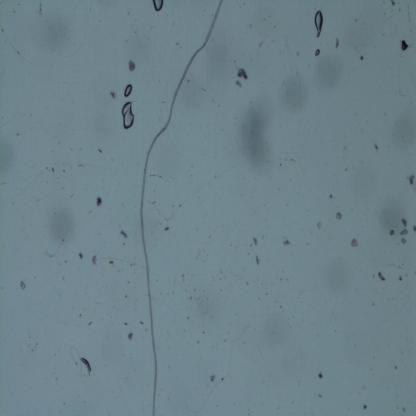Air bubble: (121, 100, 136, 131), (314, 10, 323, 38), (152, 0, 164, 13), (123, 83, 132, 98), (314, 49, 320, 56)
Background material: (234, 96, 280, 173), (38, 201, 84, 246), (374, 193, 409, 234), (387, 110, 416, 152), (32, 14, 64, 51), (284, 71, 307, 113), (318, 61, 342, 94), (70, 345, 92, 377), (0, 136, 15, 180), (48, 236, 66, 258), (234, 68, 247, 88), (400, 40, 412, 53), (388, 261, 403, 269), (118, 228, 128, 239), (126, 60, 136, 71), (350, 237, 360, 247), (334, 35, 341, 49), (407, 174, 415, 186), (377, 271, 386, 281), (19, 280, 27, 291), (335, 211, 343, 222), (109, 89, 118, 98), (38, 0, 43, 16), (399, 228, 408, 236), (254, 253, 260, 265), (96, 197, 104, 206), (148, 198, 158, 205), (106, 259, 116, 266), (317, 370, 324, 379), (316, 222, 323, 231), (402, 218, 408, 228), (252, 236, 258, 246), (92, 255, 98, 265), (389, 228, 395, 237), (211, 373, 216, 383), (284, 238, 290, 246), (127, 332, 133, 340), (296, 49, 301, 58), (401, 405, 406, 414), (362, 403, 368, 410), (389, 0, 395, 7), (130, 260, 136, 267), (194, 296, 202, 301), (78, 253, 83, 261), (259, 40, 264, 48), (374, 142, 378, 151), (97, 148, 103, 154), (402, 238, 407, 245), (318, 392, 323, 399), (398, 274, 402, 282), (412, 224, 416, 232), (182, 274, 186, 282), (51, 166, 56, 172), (165, 225, 169, 232), (244, 279, 248, 286), (140, 320, 144, 327), (77, 164, 84, 168), (360, 54, 364, 61), (257, 296, 262, 301), (329, 194, 334, 199), (371, 302, 376, 307), (88, 321, 93, 326), (394, 364, 398, 370), (398, 6, 402, 11), (156, 175, 161, 179), (123, 321, 127, 326), (272, 39, 276, 44), (63, 259, 68, 263), (176, 40, 180, 45), (221, 376, 224, 382), (171, 292, 175, 296), (62, 276, 66, 280), (193, 288, 197, 292), (124, 294, 128, 298), (171, 204, 175, 208), (209, 234, 212, 239), (187, 316, 190, 321), (223, 339, 226, 343), (196, 340, 199, 344), (218, 277, 222, 280), (372, 274, 375, 278), (218, 103, 221, 107), (266, 292, 269, 296), (345, 167, 348, 171), (202, 331, 206, 334), (62, 162, 65, 166), (80, 312, 82, 317), (220, 288, 223, 291), (292, 314, 295, 317), (127, 281, 130, 284), (61, 187, 64, 190), (207, 297, 209, 301), (156, 278, 158, 282), (186, 288, 188, 292), (280, 305, 282, 308), (178, 204, 181, 206), (249, 244, 252, 246), (190, 297, 192, 300), (71, 148, 73, 151), (46, 166, 48, 169), (62, 170, 65, 172), (80, 148, 82, 150), (406, 274, 407, 276)
Microfibre: (136, 0, 219, 415)
